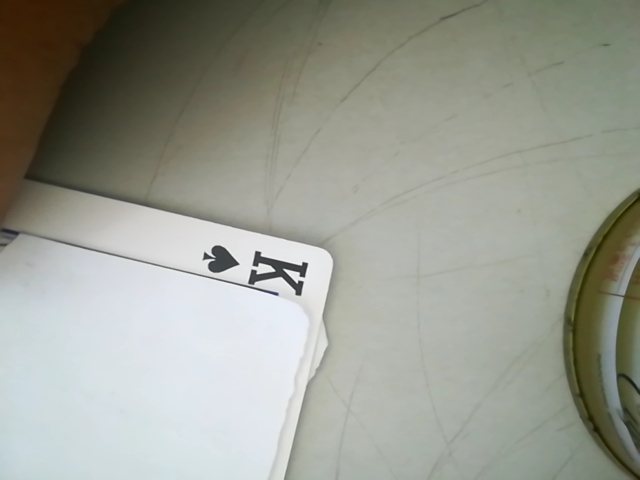ht k: (184, 234, 329, 302)
